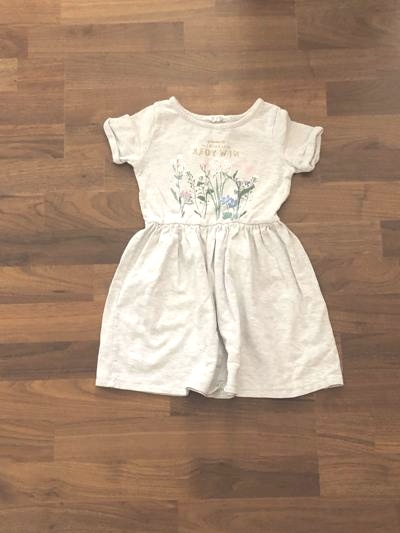Dress: (45, 72, 366, 414)
